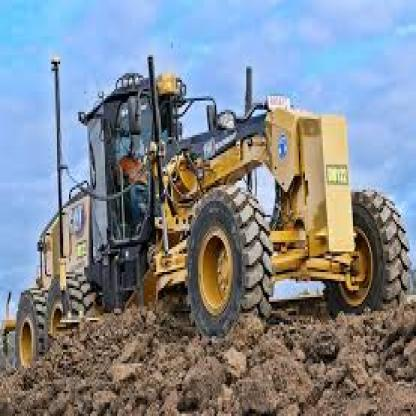bull_dozer/loader/grader: (5, 41, 406, 364)
